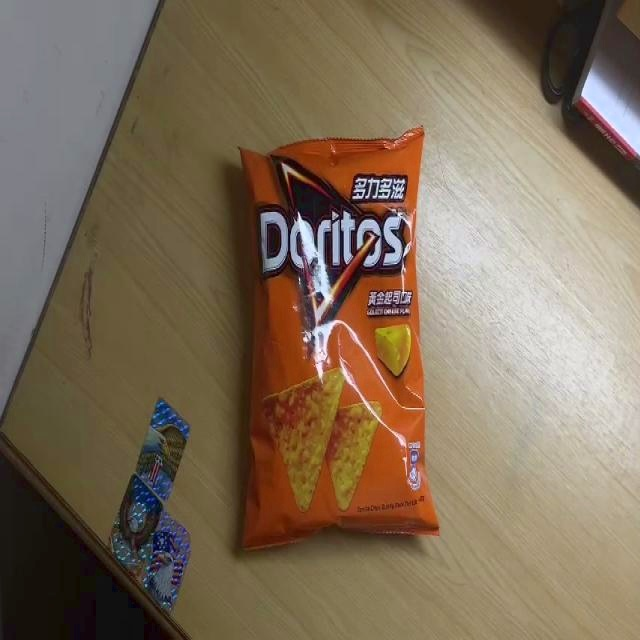Doritos: (236, 124, 441, 552)
